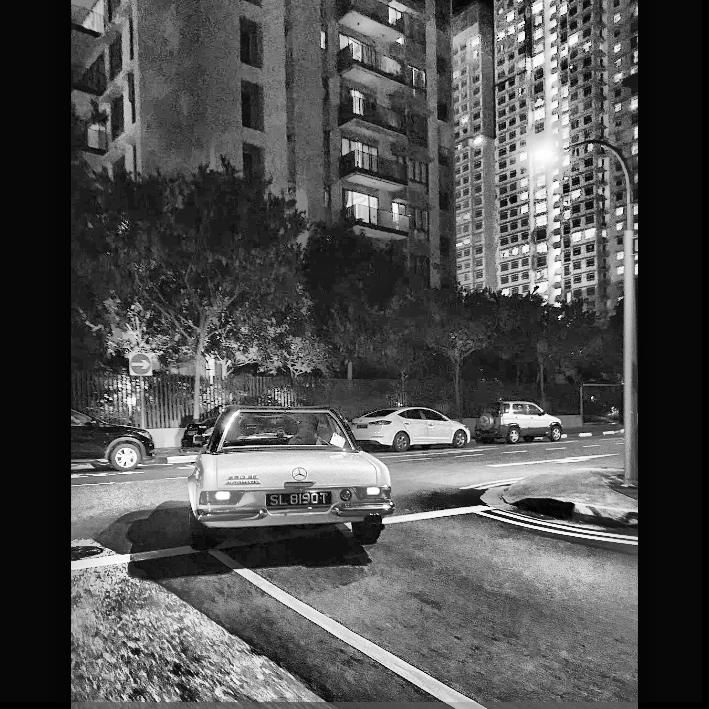License-Plates: (266, 491, 330, 507)
